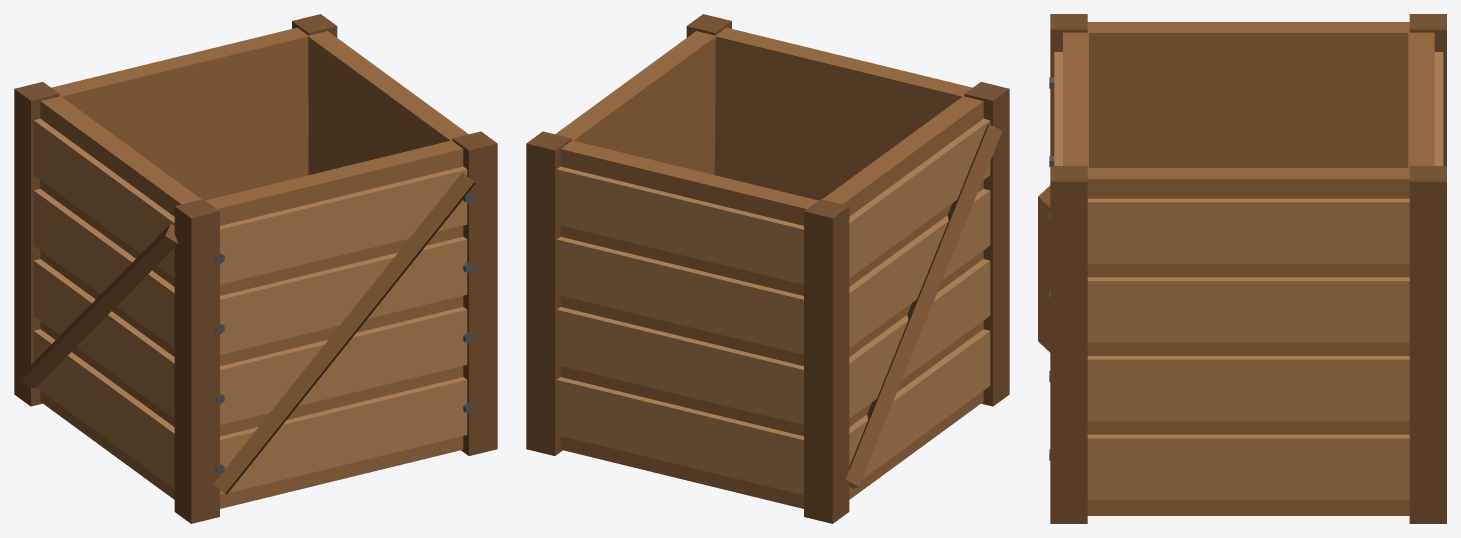
File: Wood.fbx
The picture shows the model from 3 angles, left to right: view 1: azimuth 30°, elevation 25°; view 2: azimuth 150°, elevation 25°; view 3: azimuth 270°, elevation 25°; orthographic projection. The views are drawn at different scales.
Parts seen in each view (by area): view 1: Planks, Walls, Posts, Nails; view 2: Planks, Walls, Posts; view 3: Planks, Walls, Posts.
Part boxes in pixels (<box>): Planks: <box>33,118,467,495</box>; Walls: <box>40,27,468,508</box>; Posts: <box>14,14,497,523</box>; Nails: <box>215,193,473,474</box>; Planks: <box>556,118,990,495</box>; Walls: <box>555,27,983,508</box>; Posts: <box>526,14,1009,523</box>; Planks: <box>1054,52,1443,499</box>; Walls: <box>1063,22,1434,515</box>; Posts: <box>1038,14,1446,523</box>.
Bounding box in the file's own units: 3.3 × 3.05 × 3.3.
